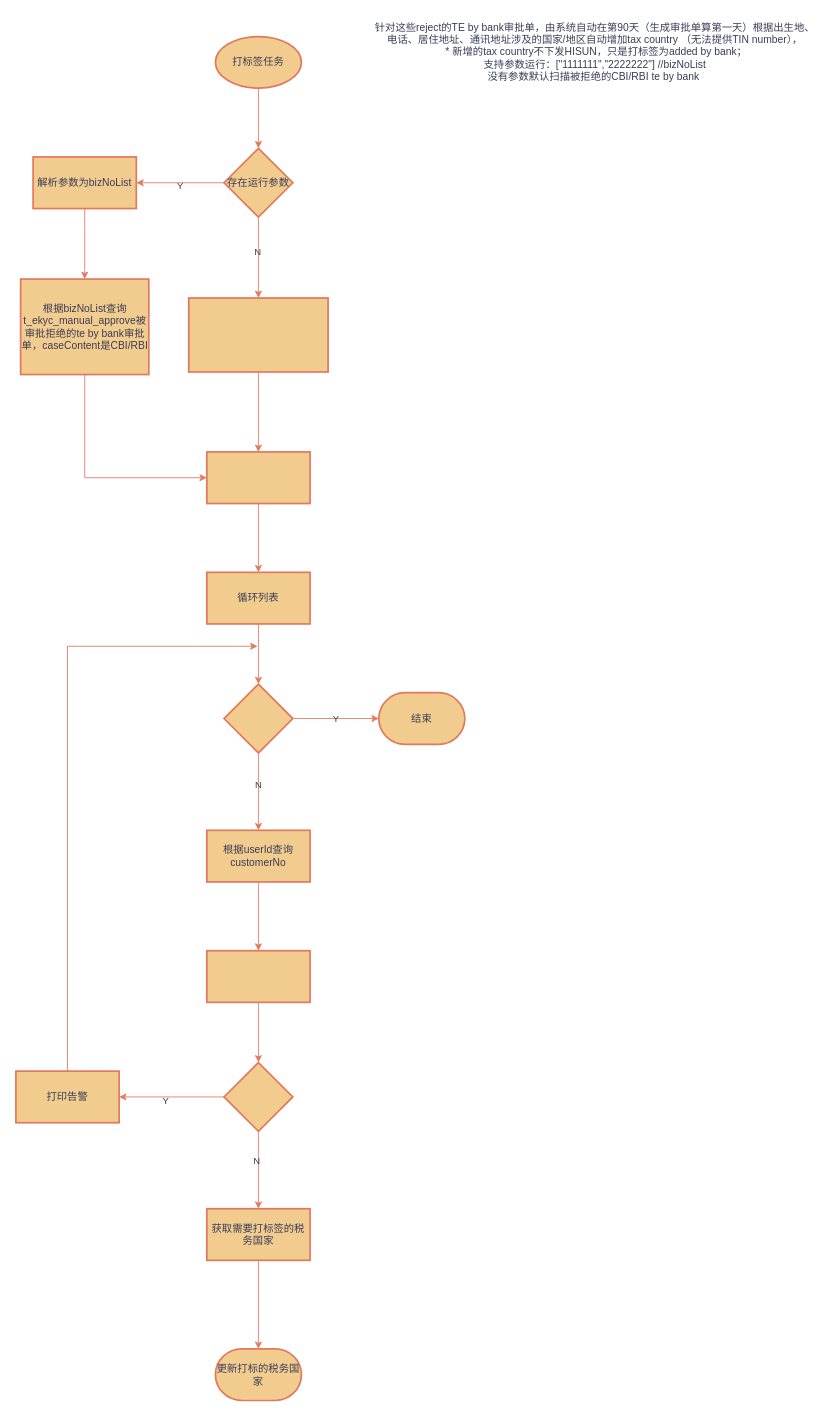
The diagram is 832 pixels wide and 1416 high, and some of its shapes have lost their labels. The box of each missing label's shape, as (x1, y1, x2, y2) in pixels:
列表为空: (223, 683, 293, 753)
查询t_ekyc_manual_approve生成时间是T天内并被审批拒绝的te by bank审批单，caseContent是CBI/RBI: (187, 297, 329, 372)
查询异常: (223, 1061, 293, 1132)
根据客户号查询核心信息: (206, 949, 310, 1003)
获取到对应的审批单列表: (206, 451, 310, 504)
